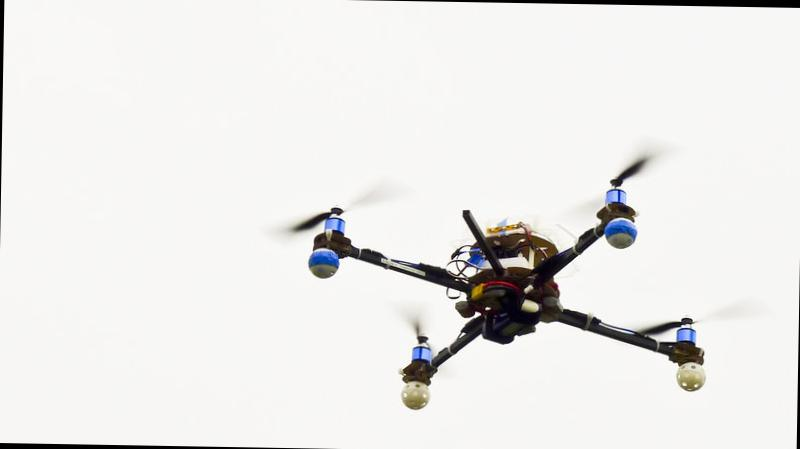drone: (270, 146, 757, 401)
